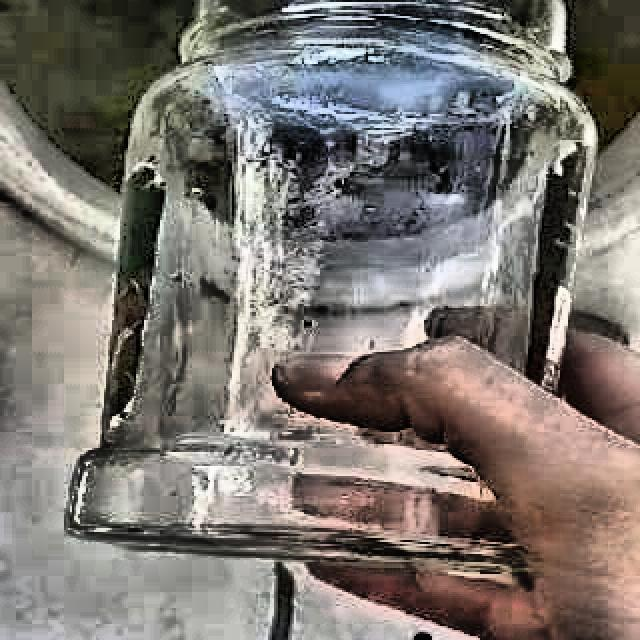glass: (69, 0, 597, 575)
